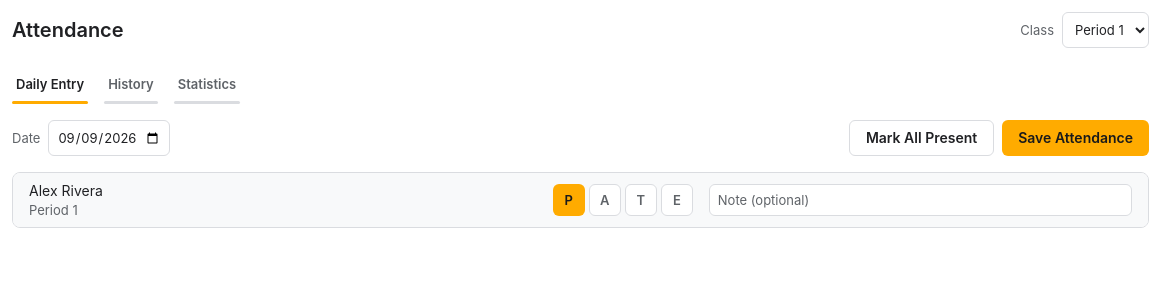
AttendancePage entry view › makes entry read-only on weekends
Expected: the button "Alex Rivera" is shown, [29,181,103,201]
Step 1. Type "2022-01-01" into the date field named "Attendance date" → {"x": 109, "y": 138}, box [48,120,170,156]
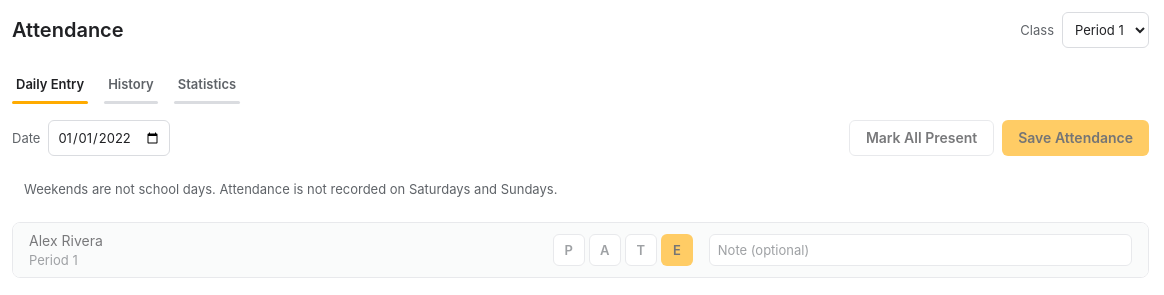
Now the text "Weekends are not school days" is shown, box [24,181,557,197]
Now the button named "Present: Alex Rivera" is disabled, box [553,234,585,266]
Now the field named "Note for Alex Rivera" is disabled, box [709,234,1132,266]
